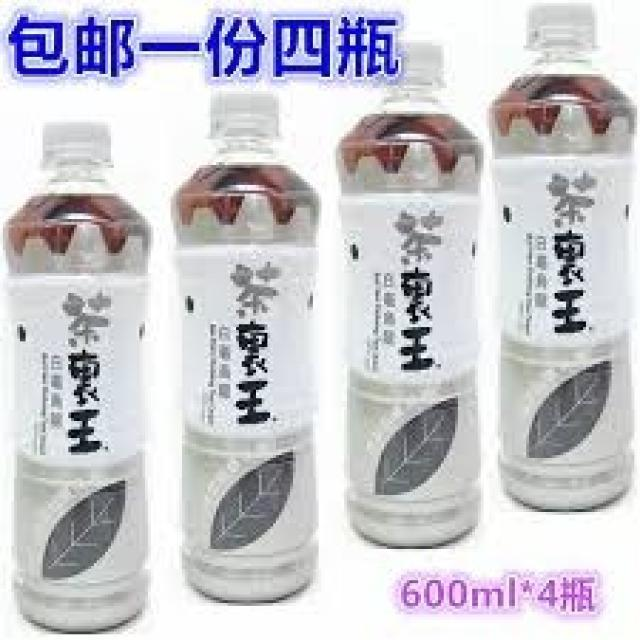ChaLiWong_WhiteOolong: (338, 44, 498, 548), (178, 92, 328, 600), (497, 6, 640, 514), (14, 114, 154, 618)
